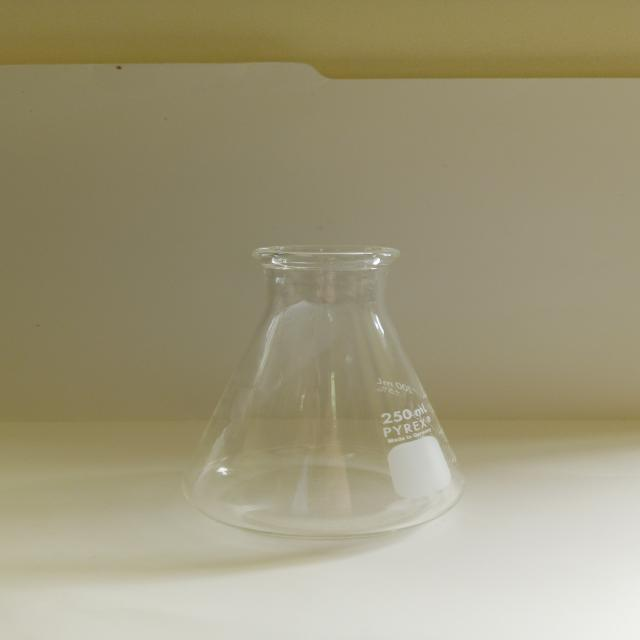erlenmeyer_flask: (172, 235, 474, 538)
